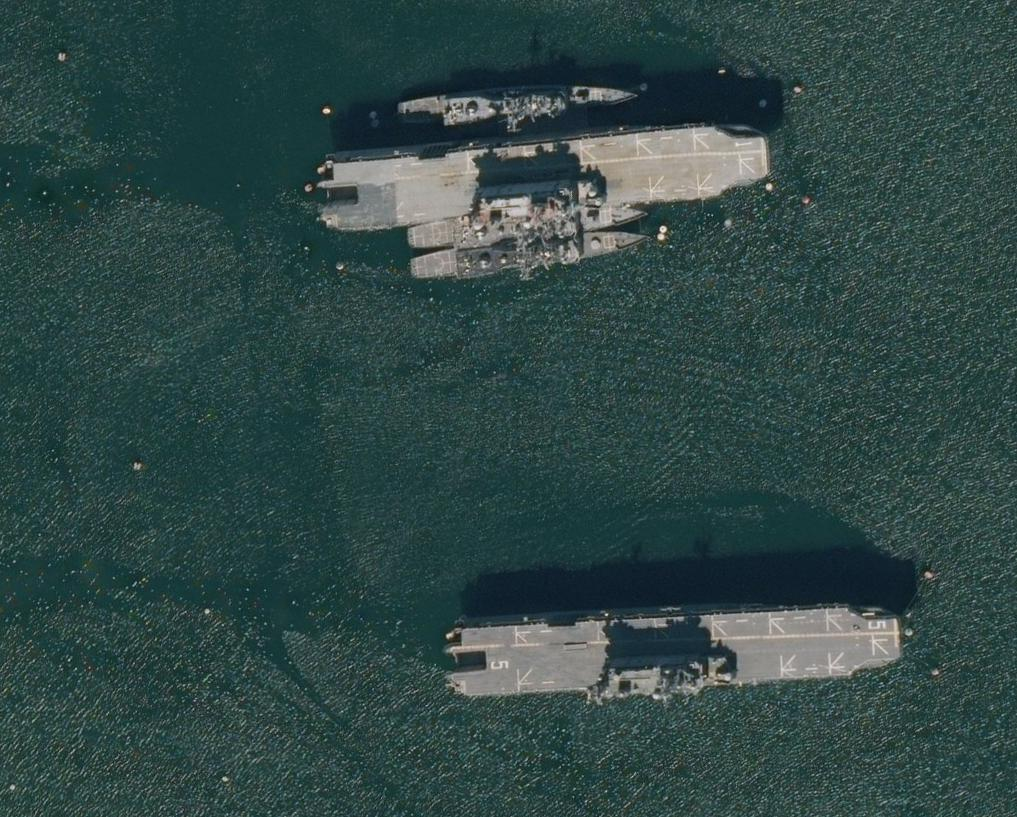pha: (312, 118, 781, 239), (442, 594, 909, 706)
